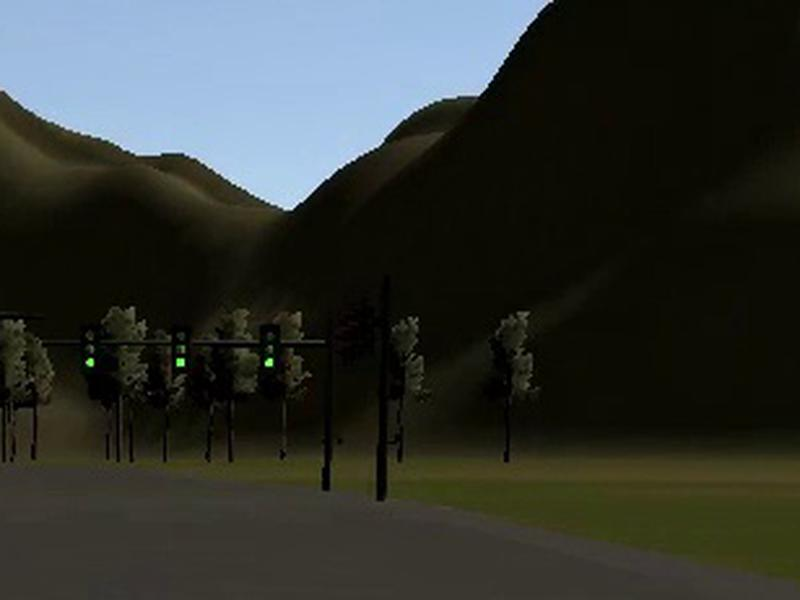Green: (258, 325, 282, 375), (79, 322, 101, 370), (172, 326, 192, 371)
